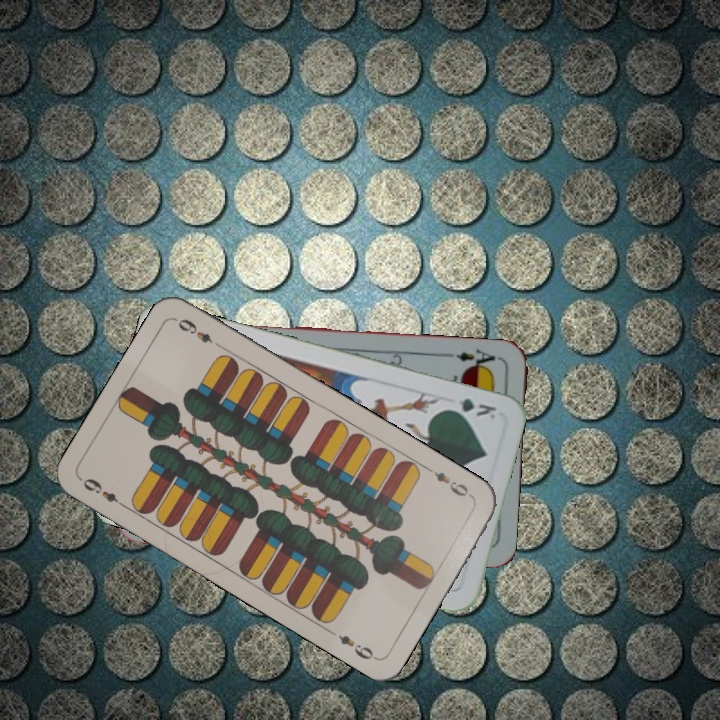E9: (423, 463, 476, 501), (78, 474, 130, 511)
EA: (444, 345, 498, 373)
GK: (441, 394, 499, 422)
